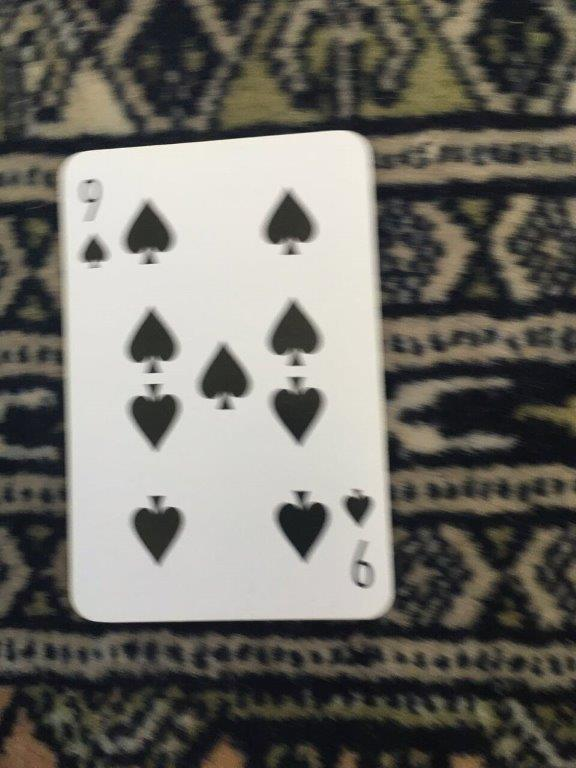9S: (53, 127, 399, 626)
